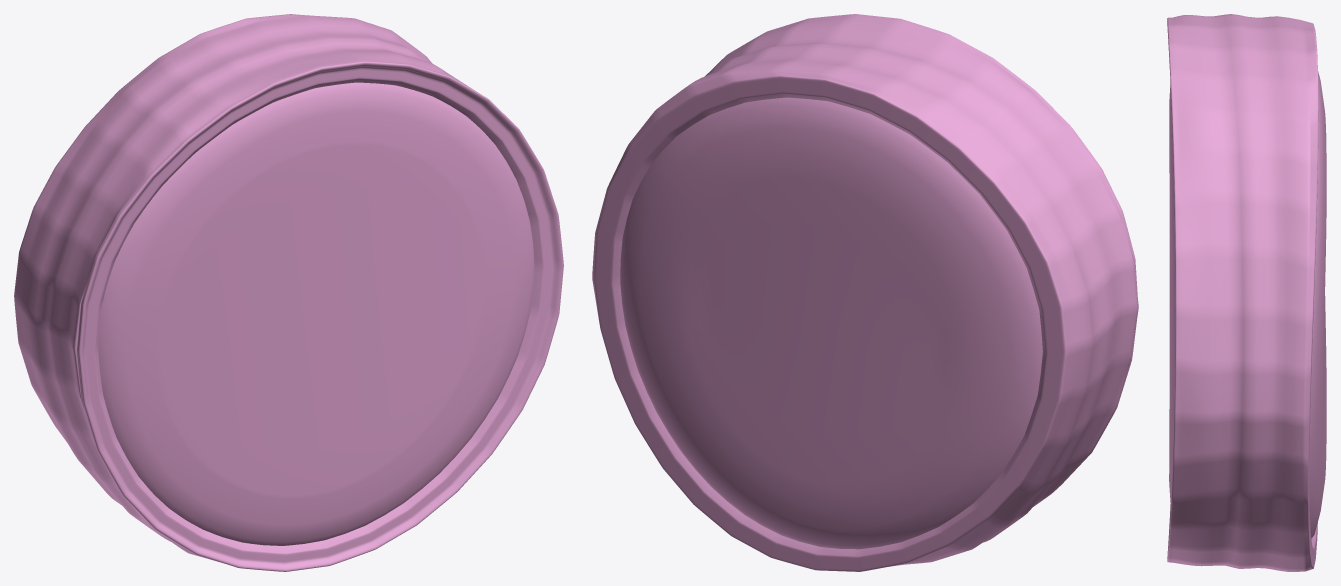
Rendered from target1v2.fbx.
3 views of the same model, side by side, from view 1: azimuth 30°, elevation 25°; view 2: azimuth 150°, elevation 25°; view 3: azimuth 270°, elevation 25° (orthographic).
Visible parts, largest first — view 1: target1v2_LOD1_combine; view 2: target1v2_LOD1_combine; view 3: target1v2_LOD1_combine.
Boxes of the visible parts, box(x1,y1,x2,y2) form: target1v2_LOD1_combine: box(14, 14, 563, 571); target1v2_LOD1_combine: box(592, 14, 1138, 571); target1v2_LOD1_combine: box(1167, 14, 1326, 571).
Bounding box in the file's own units: 12.16 × 11.94 × 3.5.
